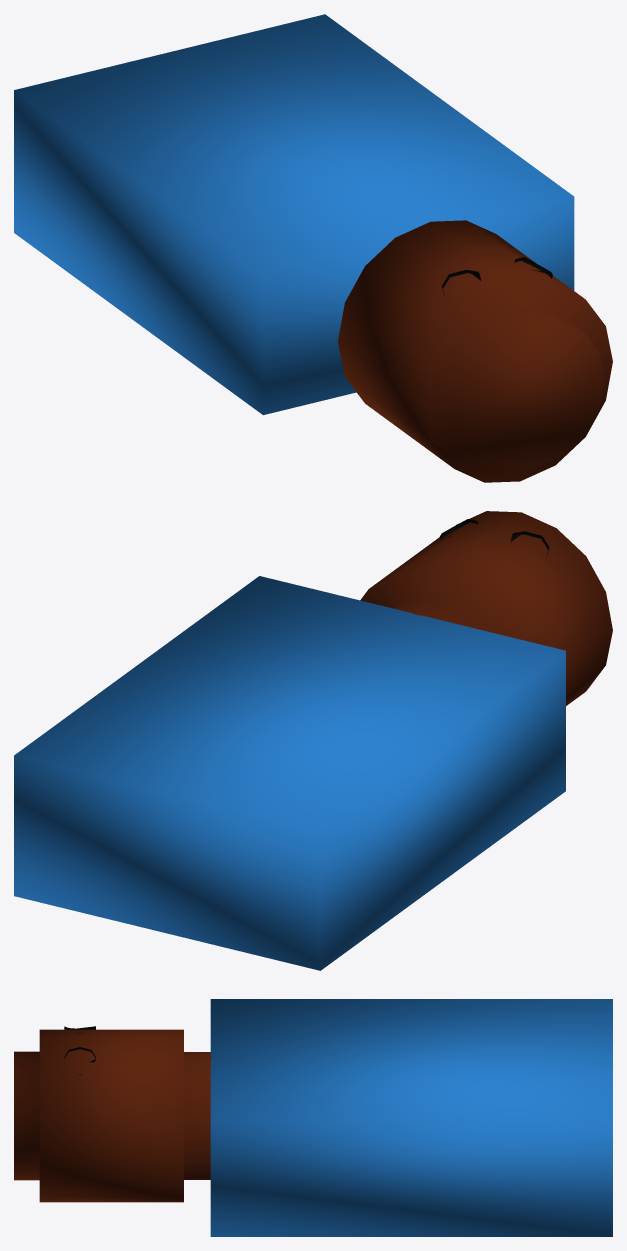
The model's file is personaje.obj.
The picture shows the model from 3 angles, top to bottom: view 1: azimuth 30°, elevation 25°; view 2: azimuth 150°, elevation 25°; view 3: azimuth 270°, elevation 25°; orthographic projection. The views are drawn at different scales.
Parts seen in each view (by area): view 1: Cube; view 2: Cube; view 3: Cube.
Part boxes in pixels (x1,y1,x2,y2): Cube: (14,14,612,482); Cube: (14,511,612,970); Cube: (14,999,612,1236).
Size of the model in its own units: 0.8691 by 0.5218 by 1.79.
